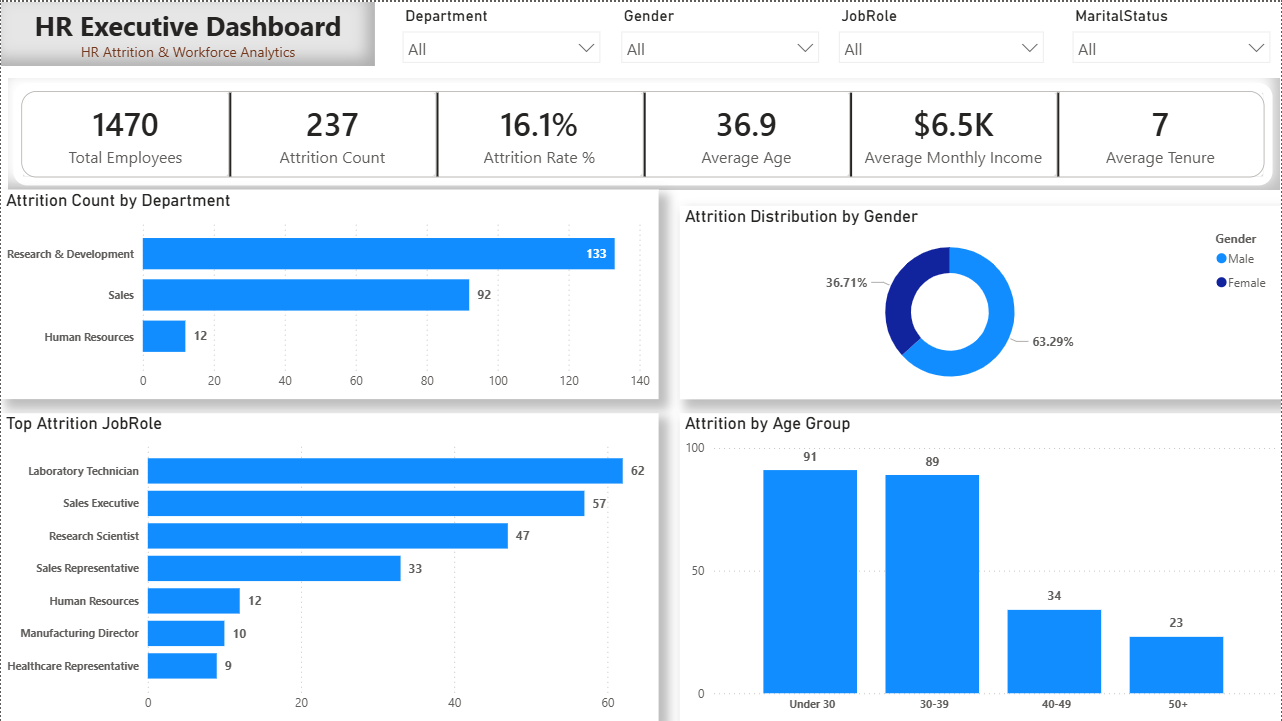

Layout of this report page (visuals, bound fields, positions):
{"tool":"powerbi","page":{"name":"HR Executive Dashboard","canvas":[1280,720],"ordinal":0},"visuals":[{"type":"cardVisual","fields":{"Data":["HR_Data.Total Employees","HR_Data.Attrition Count","HR_Data.Attrition Rate %","HR_Data.Average Age","HR_Data.Average Monthly Income","HR_Data.Average Tenure"]},"box":[8,76,1272,112],"z":0},{"type":"clusteredBarChart","title":"Attrition Count by Department","fields":{"Category":["HR_Data.Department"],"Y":["HR_Data.Attrition Count"]},"box":[0,186.9,657.4,209.8],"z":1000},{"type":"clusteredBarChart","title":"Top Attrition JobRole","fields":{"Y":["HR_Data.Attrition Count"],"Category":["HR_Data.JobRole"]},"box":[0,411.5,657.4,308.2],"z":2000},{"type":"donutChart","title":"Attrition Distribution by Gender","fields":{"Y":["HR_Data.Attrition Count"],"Category":["HR_Data.Gender"]},"box":[678.7,203.3,601.6,193.4],"z":3000},{"type":"clusteredColumnChart","title":"Attrition by Age Group ","fields":{"Category":["HR_Data.Age Group "],"Y":["HR_Data.Attrition Count"]},"box":[678.7,411.5,601.6,308.2],"z":4000},{"type":"textbox","box":[0,0,373.8,63.9],"z":5000},{"type":"slicer","fields":{"Values":["HR_Data.Department"]},"box":[391.8,0,218,63.9],"z":6000},{"type":"slicer","fields":{"Values":["HR_Data.Gender"]},"box":[609.8,0,218,62.3],"z":7000},{"type":"slicer","fields":{"Values":["HR_Data.JobRole"]},"box":[827.9,0,225,62.3],"z":8000},{"type":"slicer","fields":{"Values":["HR_Data.MaritalStatus"]},"box":[1060.7,0,218,62.3],"z":9000}]}

Visuals, with their boxes in screenshot pixels (x1, y1, x2, y2), scaled from the page's 1280x720 canvas onto the 1282x721 screenshot:
cardVisual - HR_Data.Total Employees x HR_Data.Attrition Count: box(8, 76, 1281, 188)
"Attrition Count by Department" clusteredBarChart: box(0, 187, 658, 397)
"Top Attrition JobRole" clusteredBarChart: box(0, 412, 658, 720)
"Attrition Distribution by Gender" donutChart: box(680, 204, 1281, 397)
"Attrition by Age Group " clusteredColumnChart: box(680, 412, 1281, 720)
textbox: box(0, 0, 374, 64)
slicer - HR_Data.Department: box(392, 0, 611, 64)
slicer - HR_Data.Gender: box(611, 0, 829, 62)
slicer - HR_Data.JobRole: box(829, 0, 1055, 62)
slicer - HR_Data.MaritalStatus: box(1062, 0, 1281, 62)
